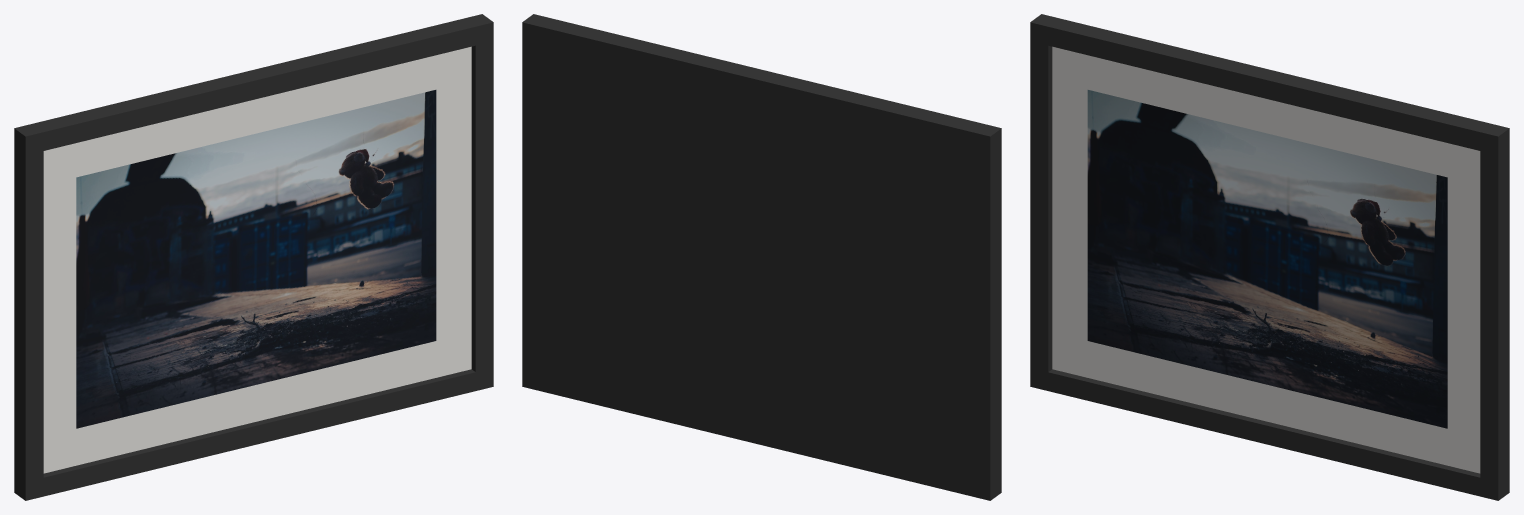
The model's file is nallen-40.gltf.
The picture shows the model from 3 angles, left to right: view 1: azimuth 30°, elevation 25°; view 2: azimuth 150°, elevation 25°; view 3: azimuth 330°, elevation 25°; orthographic projection.
Parts seen in each view (by area): view 1: tavla; view 2: tavla; view 3: tavla.
Boxes of the visible parts, x1=… form: tavla: x1=14, y1=14, x2=493, y2=500; tavla: x1=522, y1=14, x2=1001, y2=500; tavla: x1=1030, y1=14, x2=1509, y2=500.
Bounding box in the file's own units: 0.52 × 0.3867 × 0.022.
3 materials, 1 textured.
